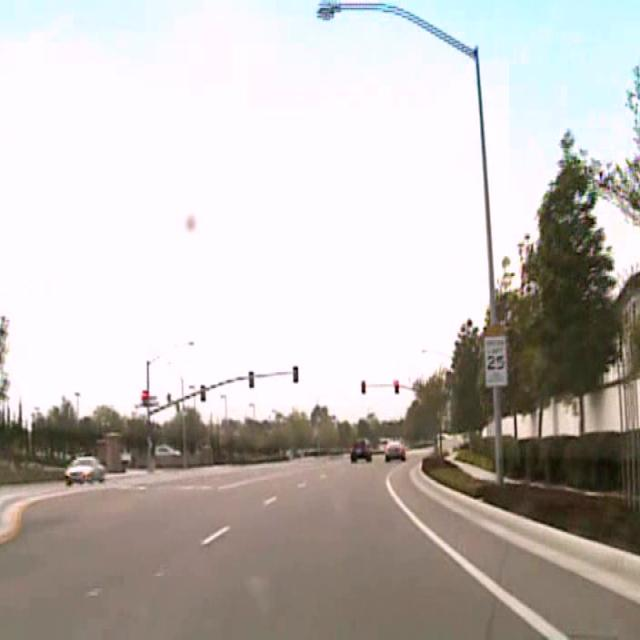speedLimit25: (484, 325, 507, 387)
